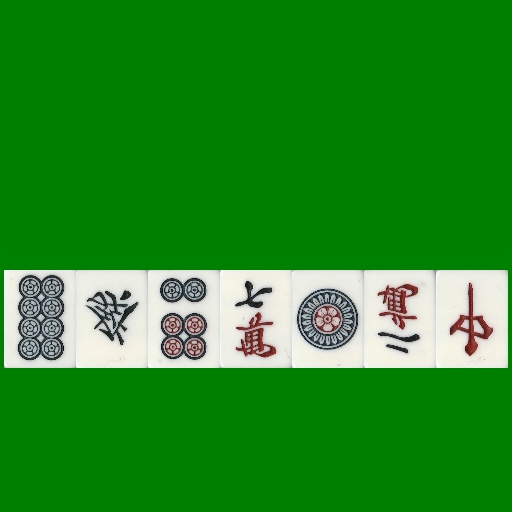1p: (292, 270, 364, 368)
2m: (364, 270, 436, 368)
6p: (148, 270, 220, 368)
7m: (220, 270, 292, 368)
8p: (4, 270, 76, 368)
hatsu: (76, 270, 148, 368)
tyun: (436, 270, 508, 368)
